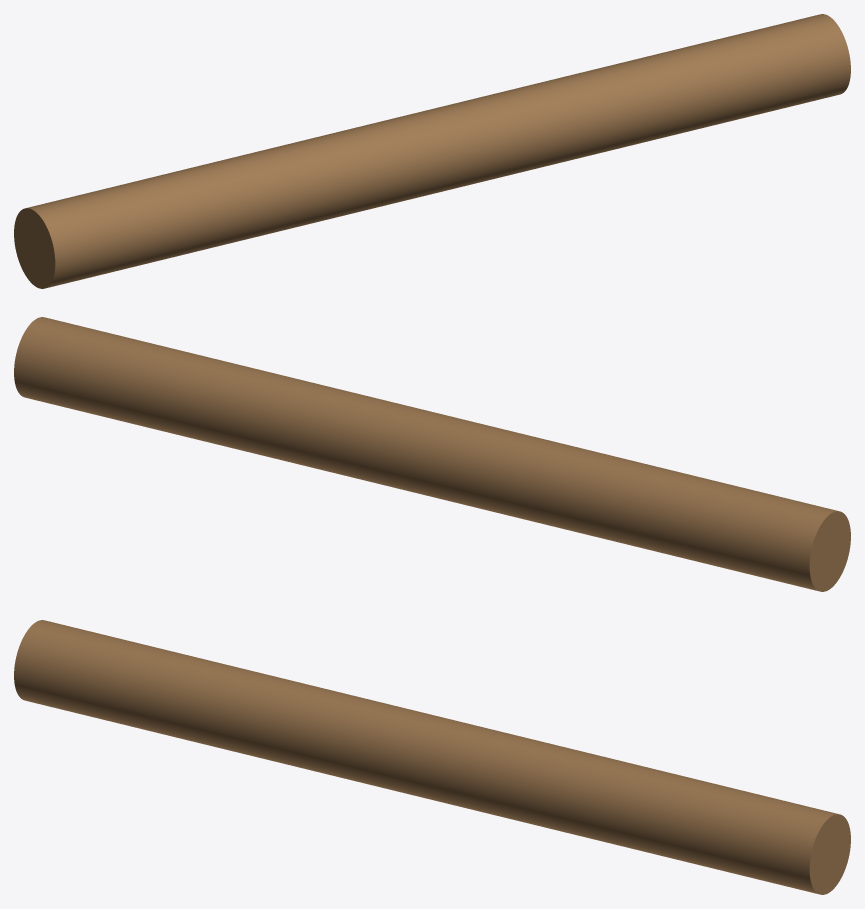
File: utility_pipe.glb
3 renders of one model, top to bottom at view 1: azimuth 30°, elevation 25°; view 2: azimuth 150°, elevation 25°; view 3: azimuth 330°, elevation 25°, orthographic.
Visible parts, largest first — view 1: Pipe; view 2: Pipe; view 3: Pipe.
Part boxes in pixels (x1,y1,x2,y2): Pipe: [14, 14, 850, 288]; Pipe: [14, 317, 850, 591]; Pipe: [14, 620, 850, 894].
Bounding box in the file's own units: 1 × 0.09 × 0.09.
